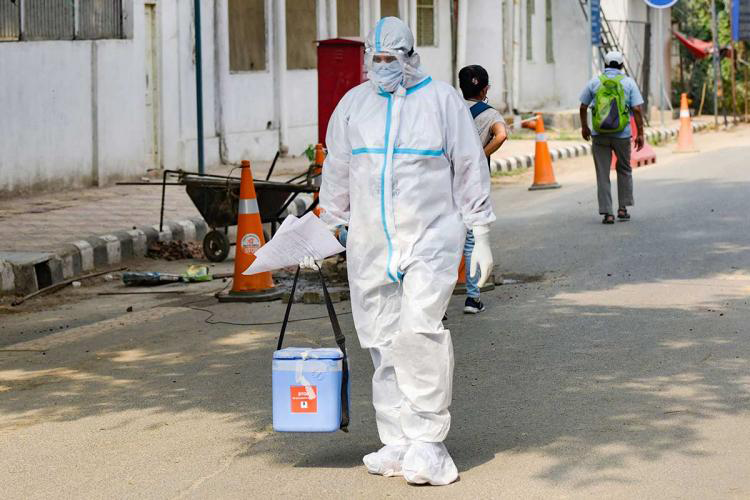Coverall: (319, 15, 493, 441)
Gloves: (468, 222, 503, 291)
with_mask: (370, 63, 403, 92)
